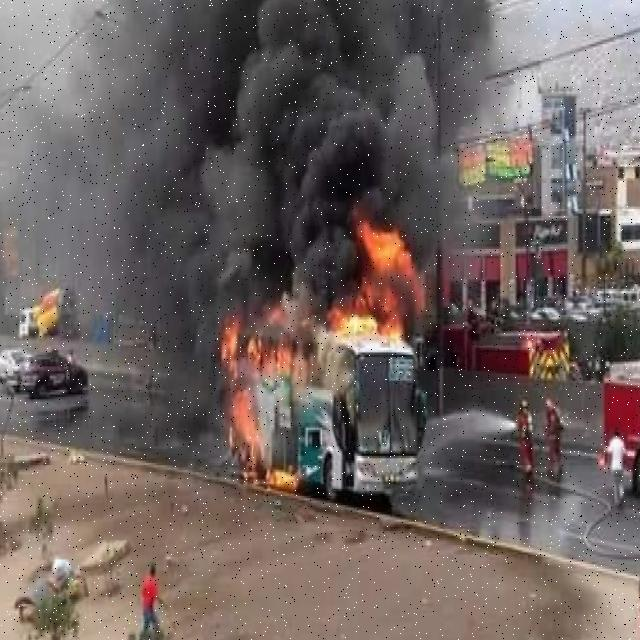fire: (227, 318, 412, 467), (343, 216, 440, 327)
smoke: (109, 0, 497, 420)
